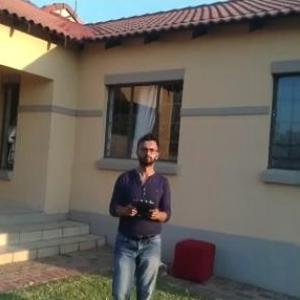follow: (103, 129, 174, 299)
